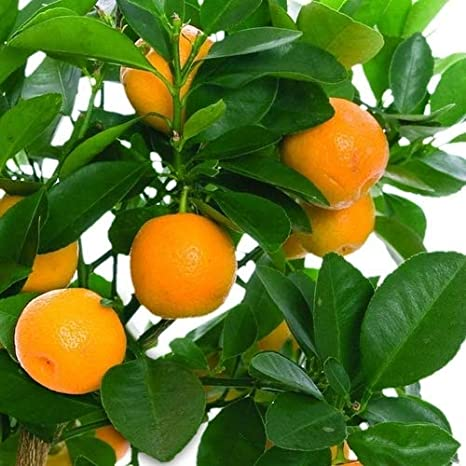Orange: (269, 86, 383, 214), (8, 277, 138, 388), (112, 200, 240, 309)
